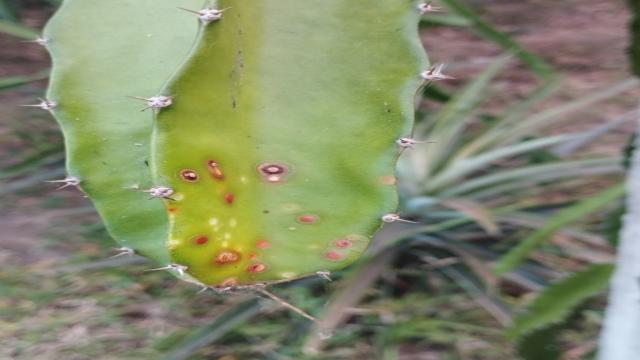stemcanker: (155, 145, 378, 286)
